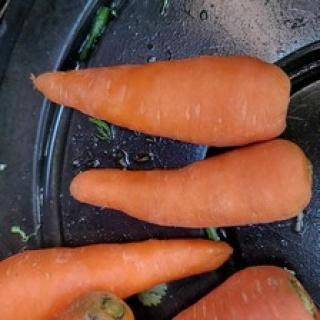carrot: (25, 50, 293, 148), (70, 137, 312, 227), (0, 238, 237, 320)
